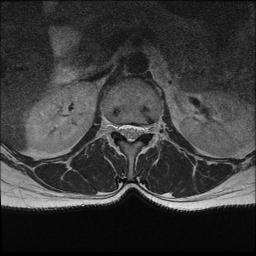CCS_normal: (127, 116, 135, 149)
LFS_normal: (144, 119, 153, 139)
LLS_normal: (134, 118, 143, 141)
RFS_normal: (112, 114, 120, 139)
RLS_normal: (119, 116, 127, 142)
